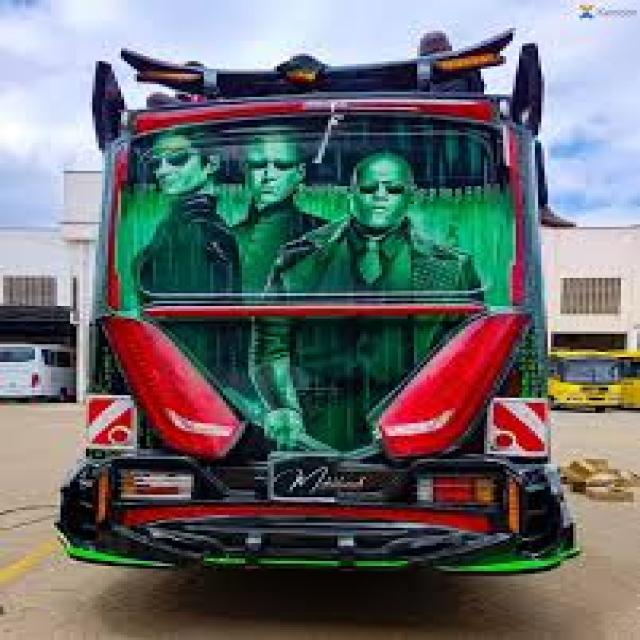bus: (49, 9, 590, 617)
